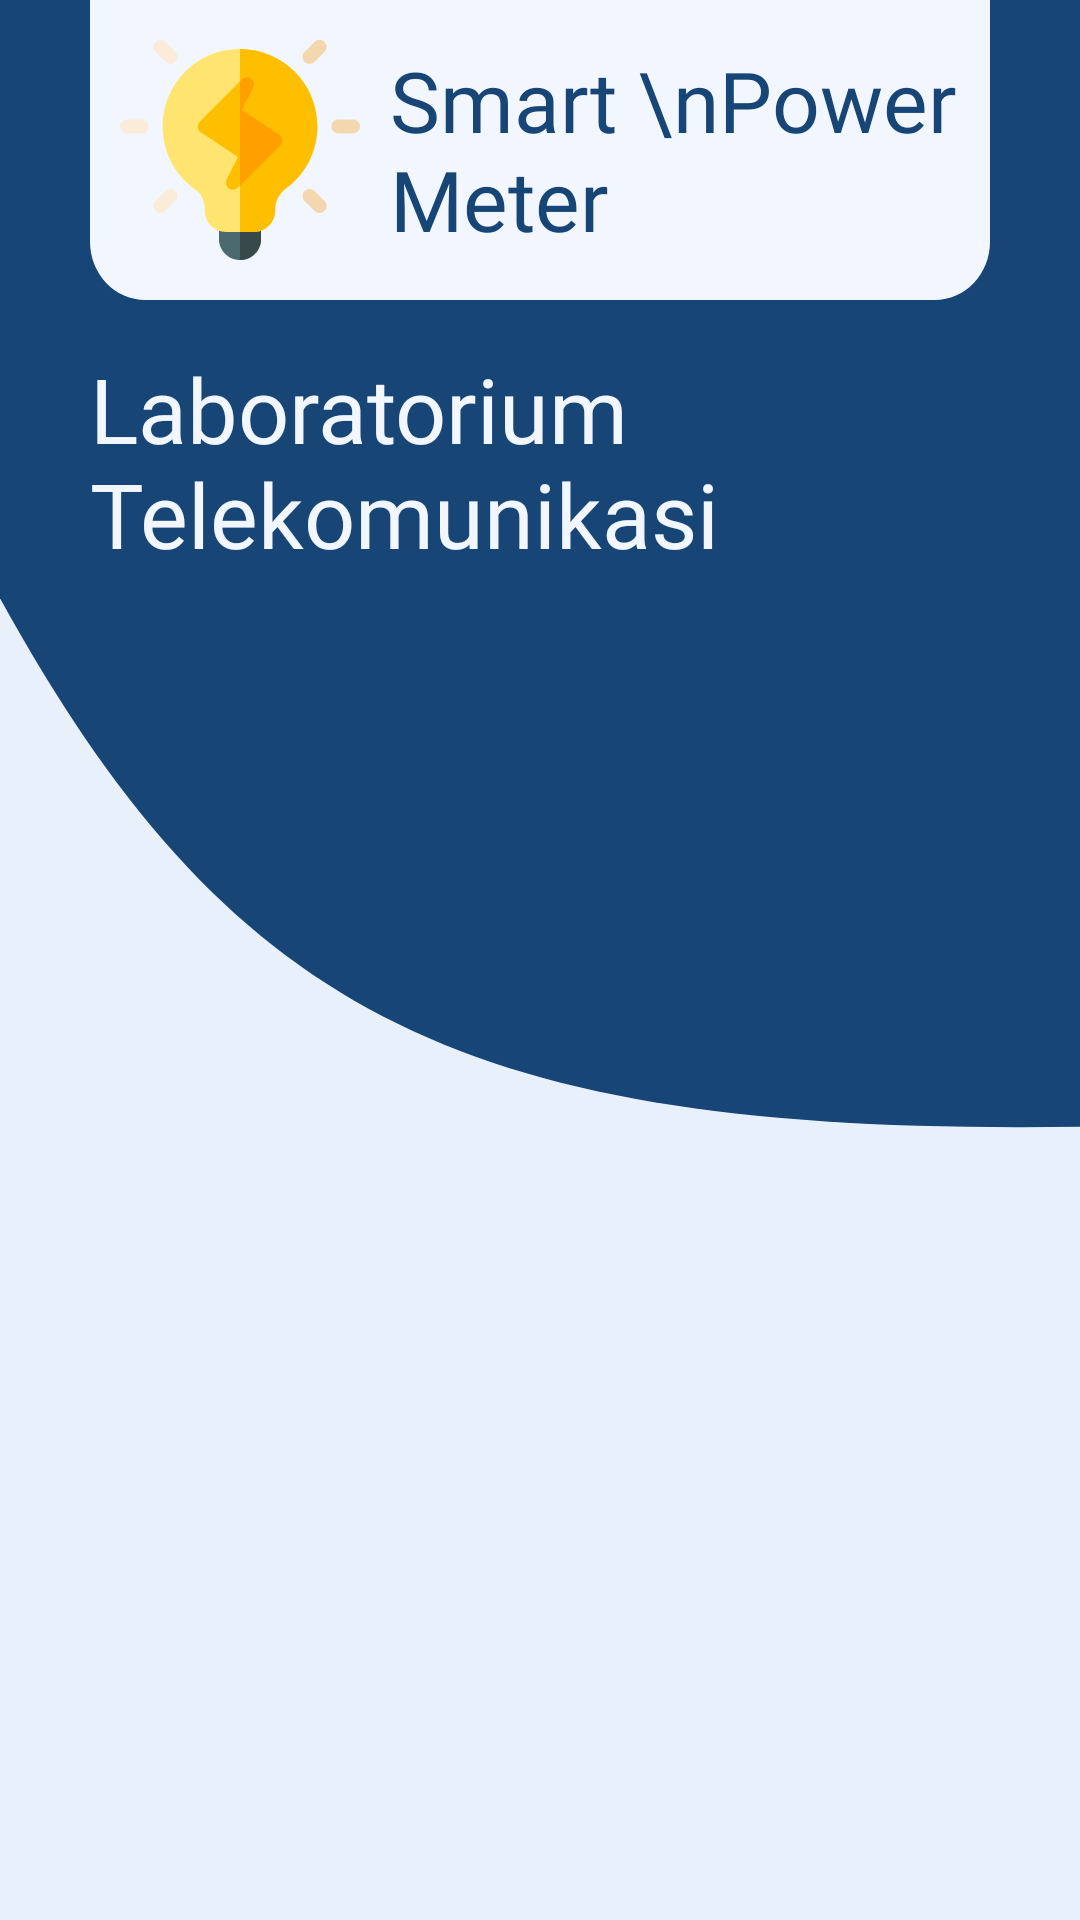

Where to tap for icons on this 1080px×1920px app screen, as (x=x, y=y):
idea: (x=240, y=150)
